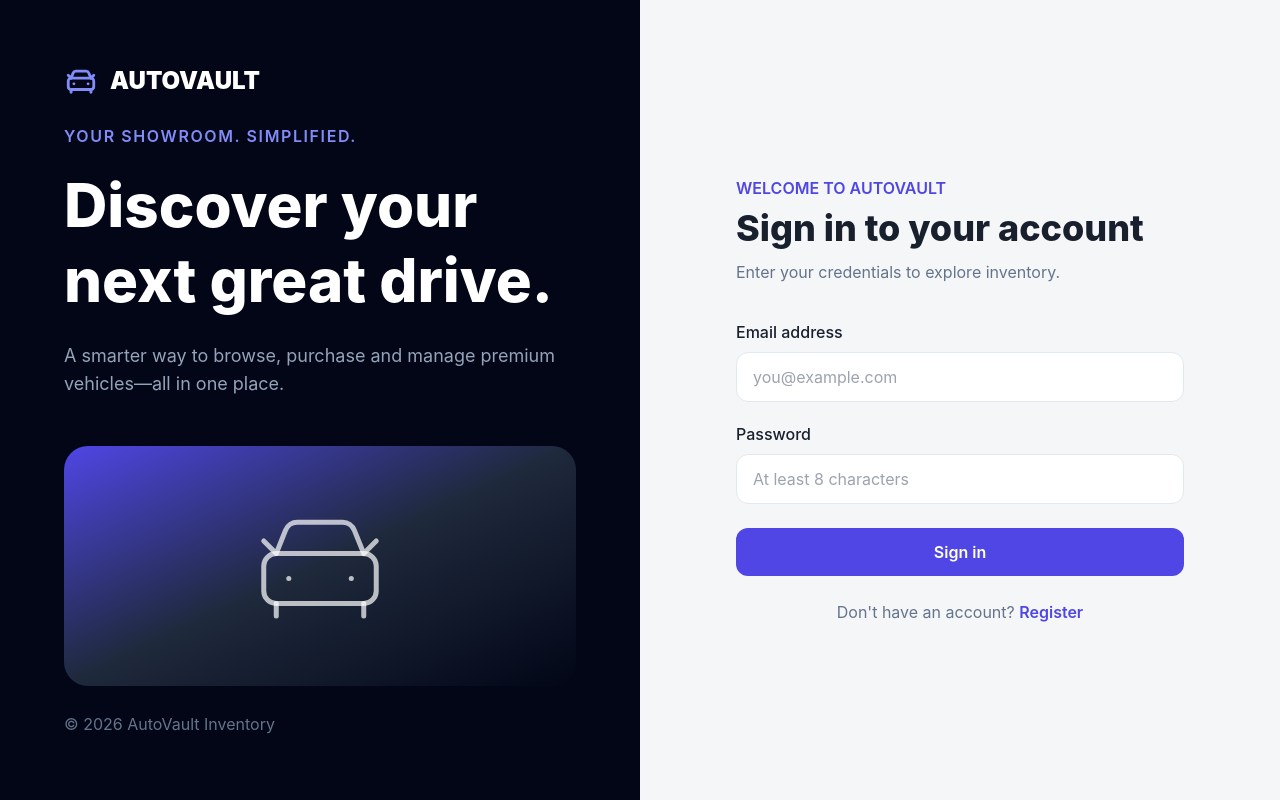
Scenario: shows registration form and submits valid registration
The width and height of the screenshot is (1280, 800).
Click the button "Register" at (1051, 612), box [1019, 600, 1083, 624]
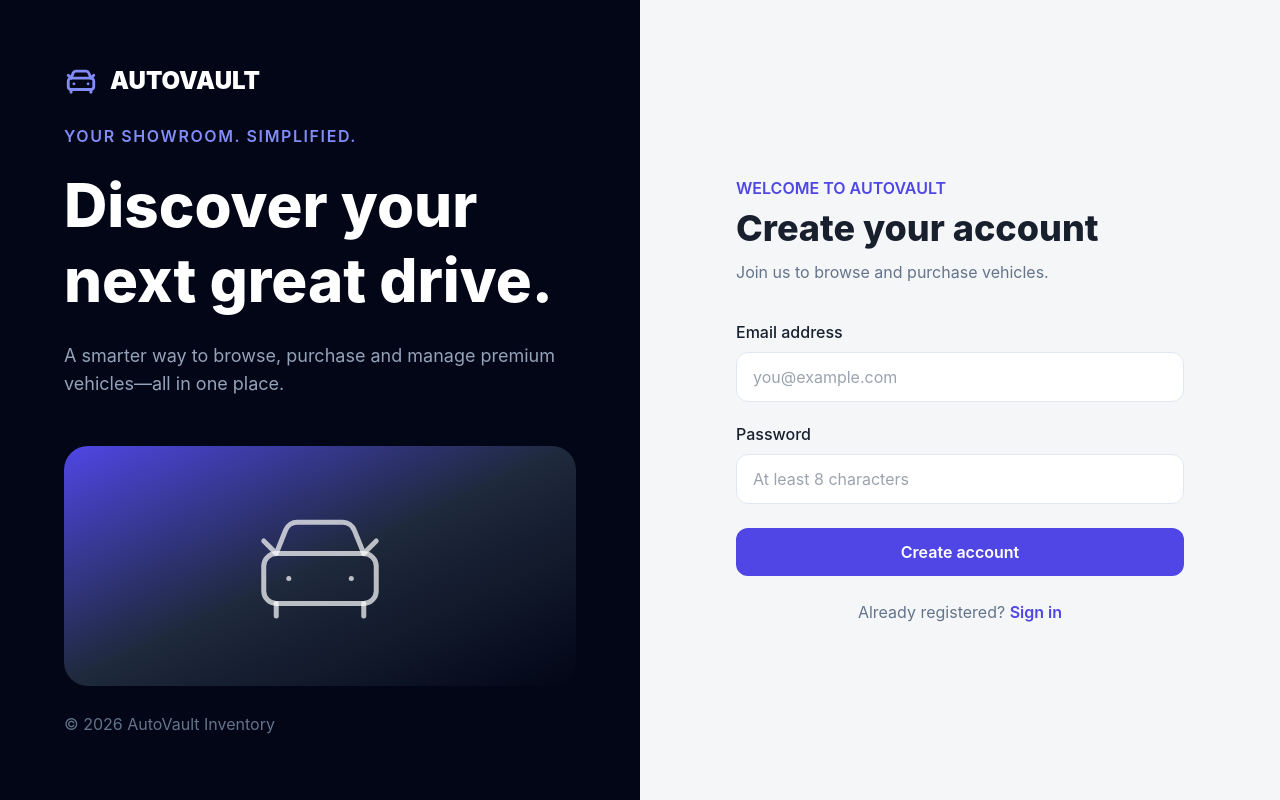
Check: the heading "Create your account" is shown, box [736, 206, 1098, 250]
Type "new@example.com" into the field labelled "Email address" at (960, 377), box [736, 352, 1184, 402]
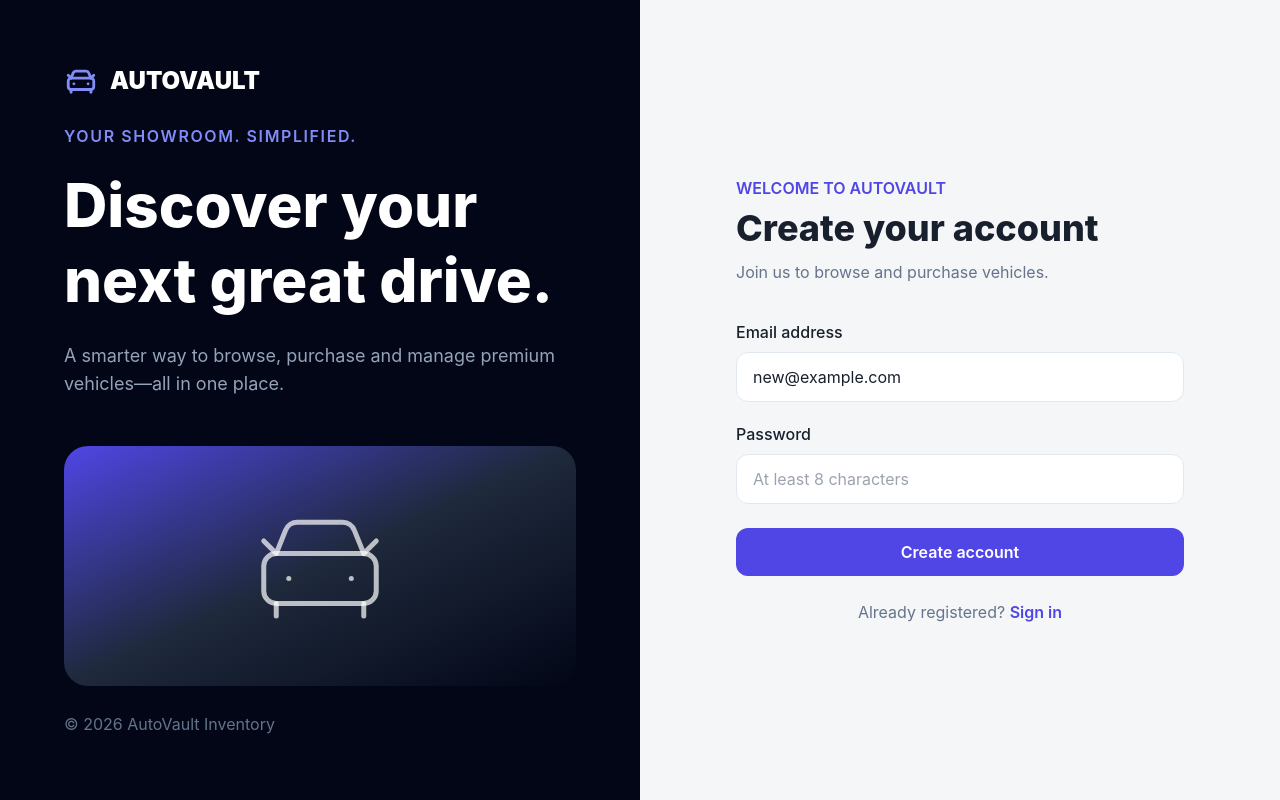
Type "Customer123" into the password field labelled "Password" at (960, 479), box [736, 454, 1184, 504]
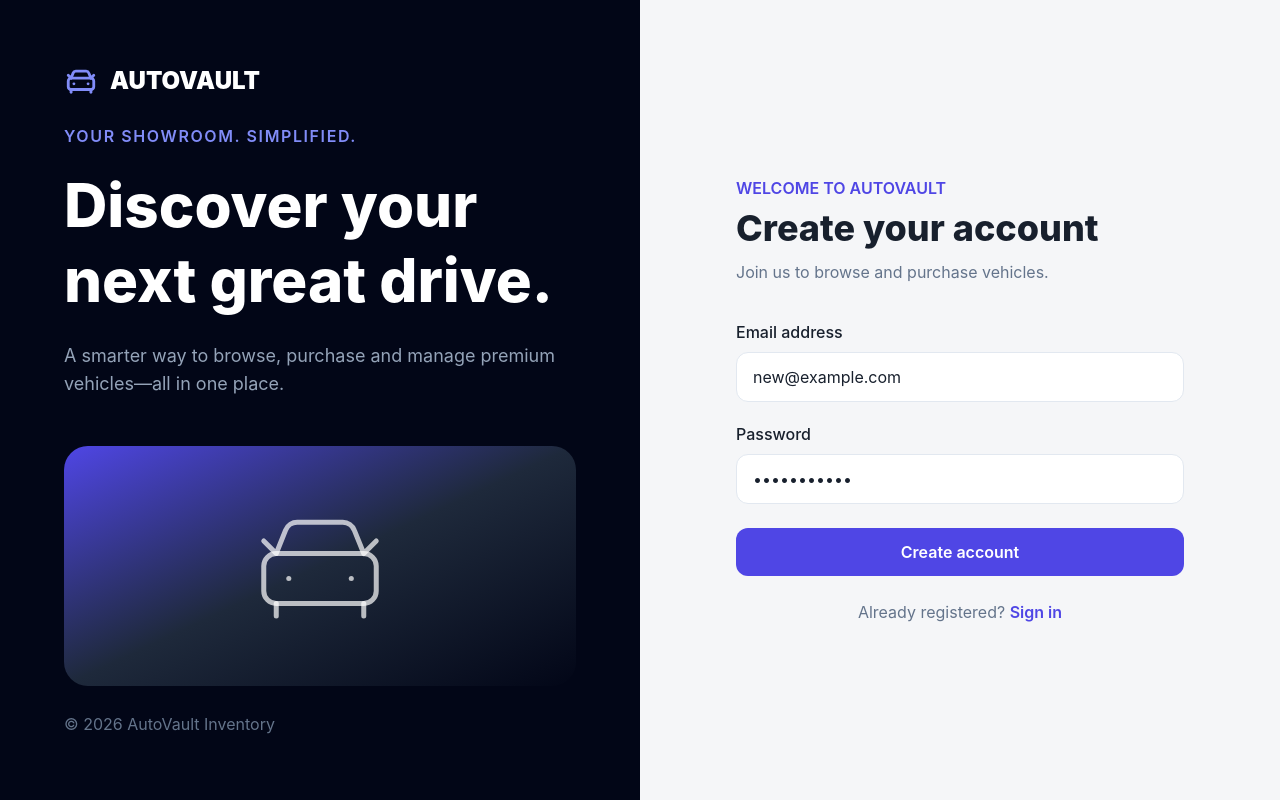
Click the button "Create account" at (960, 552), box [736, 528, 1184, 576]
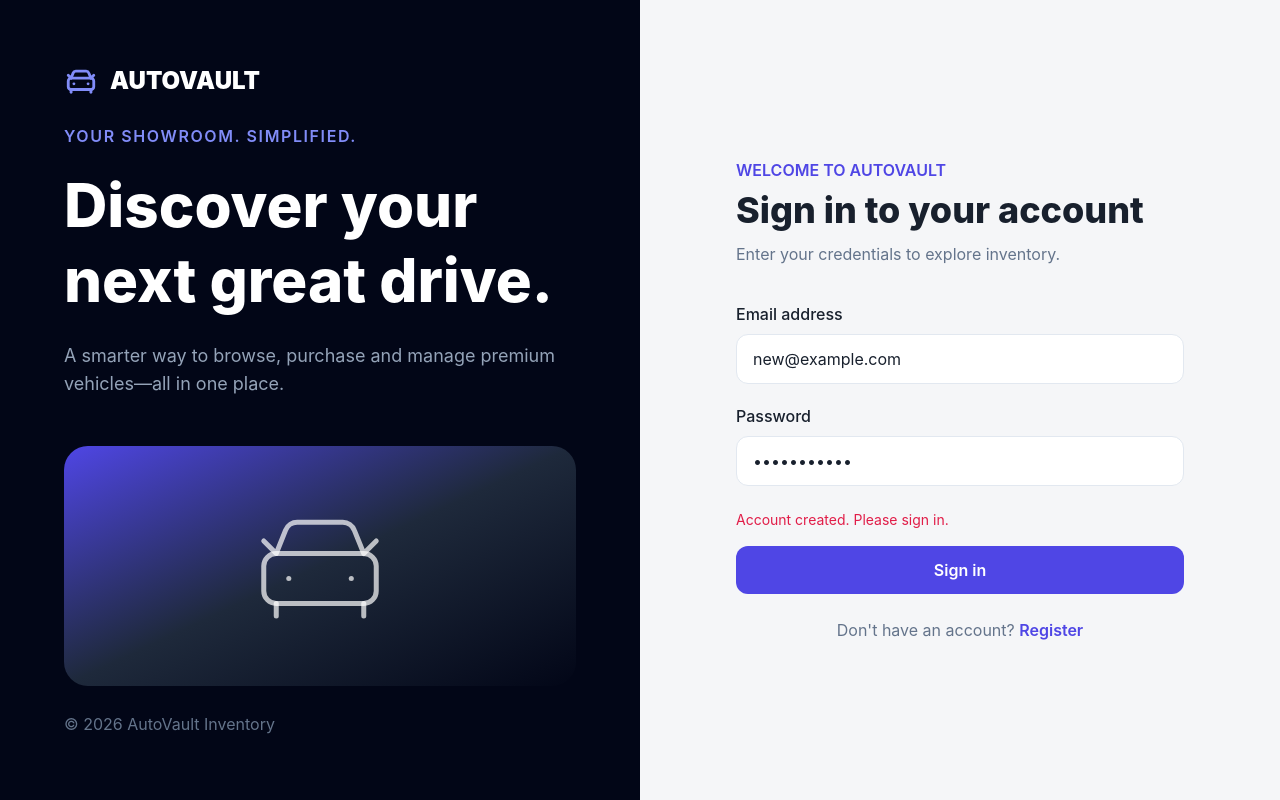
Check: the text "Account created. Please sign in." is shown, box [736, 511, 949, 528]
